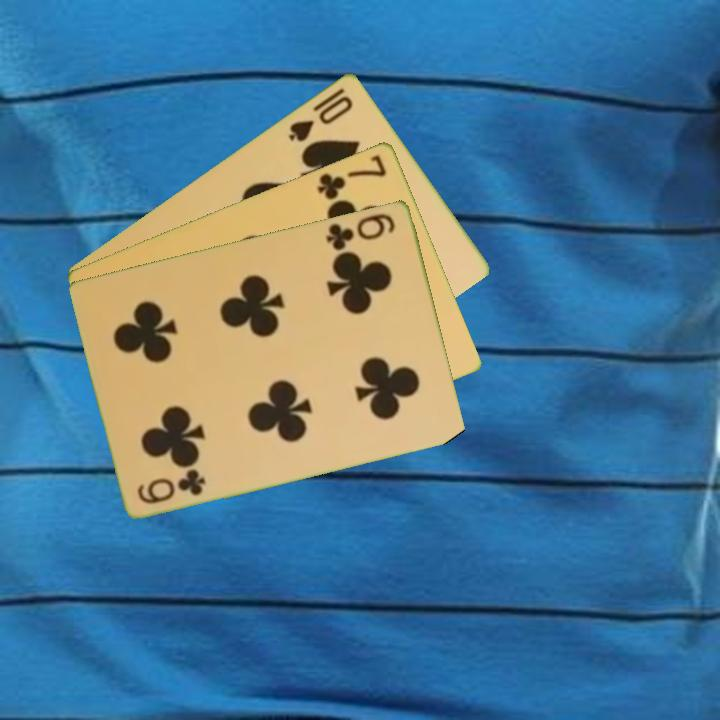10s: (285, 83, 356, 145)
6c: (322, 209, 399, 253), (134, 466, 209, 507)
7c: (314, 151, 390, 202)
